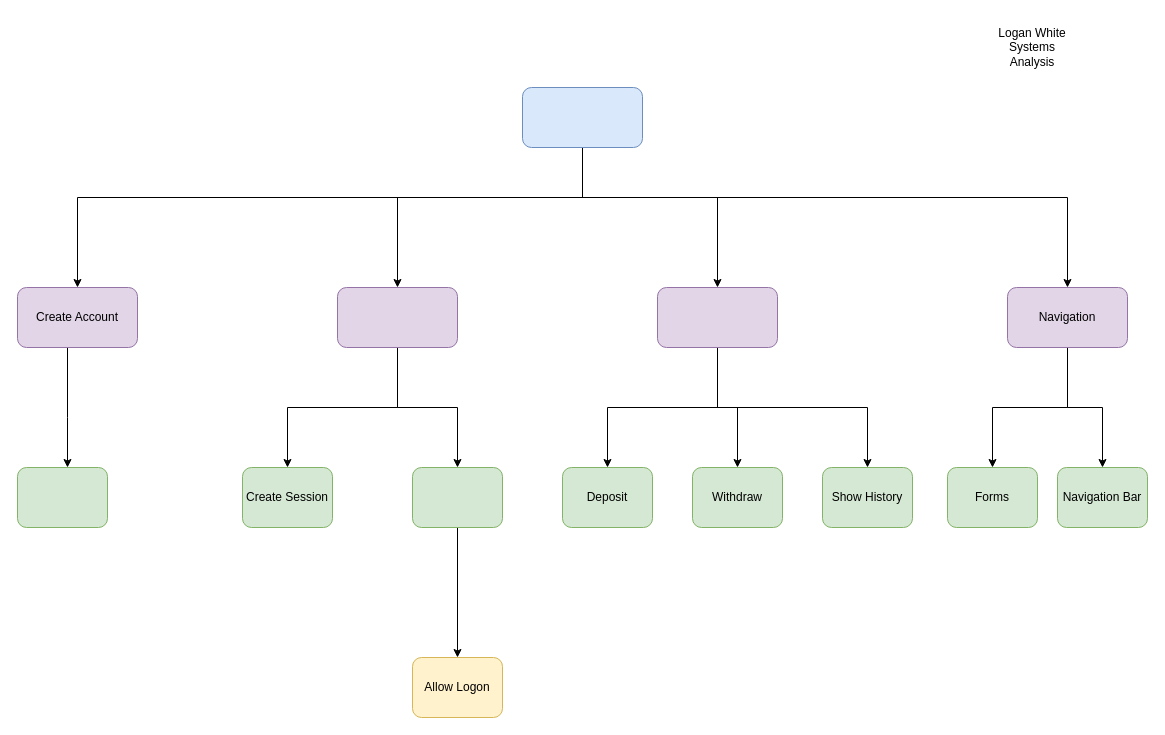
The diagram is 1165 pixels wide and 735 high, and some of its shapes have lost their labels. The shapes that lost their labels are listed below. From the top down, each one's centre as x and y in pixels, then its label:
point (582, 117): Bank System
point (397, 317): Authentication
point (717, 317): Banking
point (62, 497): Add to Database
point (457, 497): Check If User Exists
